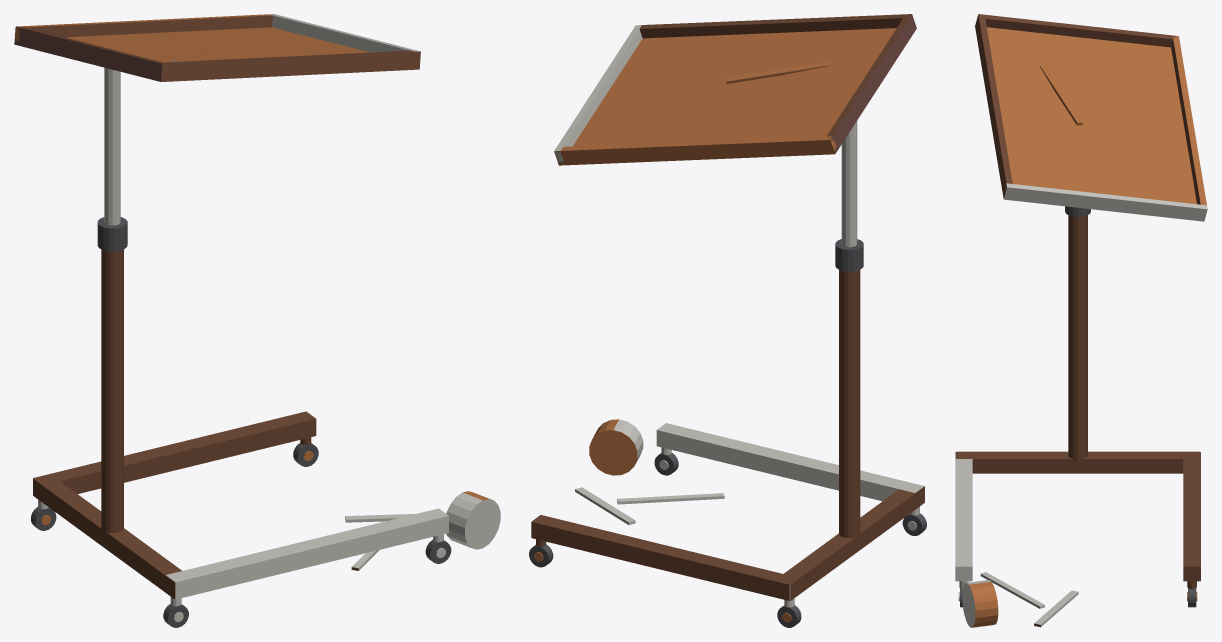
Rendered from operatingRoom_cart_v2.fbx.
3 views of the same model, side by side, from view 1: azimuth 30°, elevation 25°; view 2: azimuth 150°, elevation 25°; view 3: azimuth 270°, elevation 25° (orthographic). The views are drawn at different scales.
Parts seen in each view (by area): view 1: 08_MayoStand_Damaged_Mesh; view 2: 08_MayoStand_Damaged_Mesh; view 3: 08_MayoStand_Damaged_Mesh.
Part boxes in pixels (x1=…): 08_MayoStand_Damaged_Mesh: x1=14, y1=14, x2=500, y2=627; 08_MayoStand_Damaged_Mesh: x1=529, y1=14, x2=926, y2=627; 08_MayoStand_Damaged_Mesh: x1=955, y1=14, x2=1207, y2=627.
Size of the model in its own units: 67.71 by 97.43 by 46.47.
